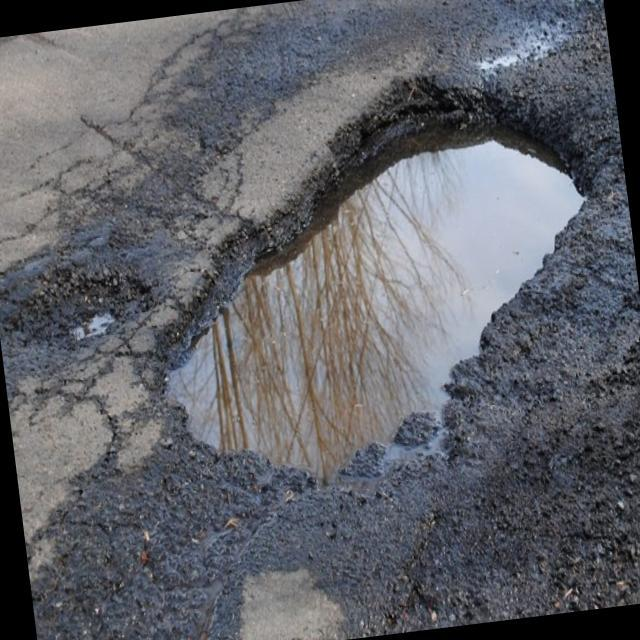Pothole: (136, 66, 622, 500)
